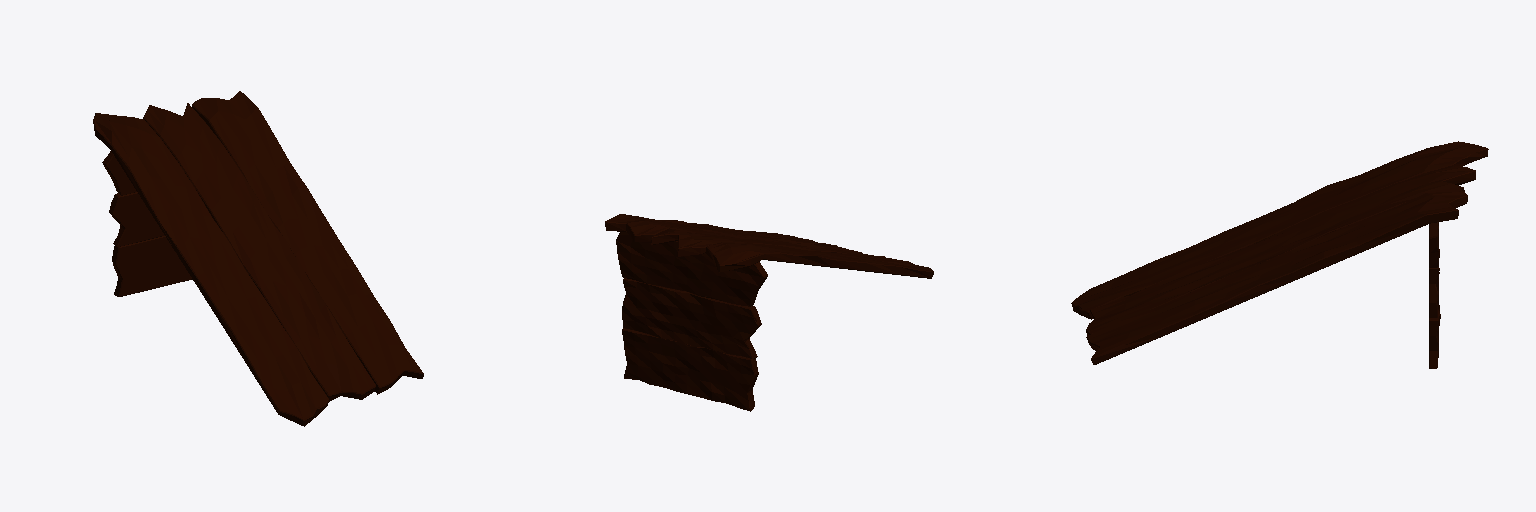
File: Planks.obj
3 renders of one model, left to right at view 1: azimuth 30°, elevation 25°; view 2: azimuth 150°, elevation 25°; view 3: azimuth 270°, elevation 25°, orthographic.
Parts seen in each view (by area): view 1: Planks_Cube; view 2: Planks_Cube; view 3: Planks_Cube.
Part boxes in pixels (x1,y1,x2,y2): Planks_Cube: (93,91,423,426); Planks_Cube: (605,214,933,411); Planks_Cube: (1071,141,1488,368).
Size of the model in its own units: 1.87 by 1.96 by 4.49.